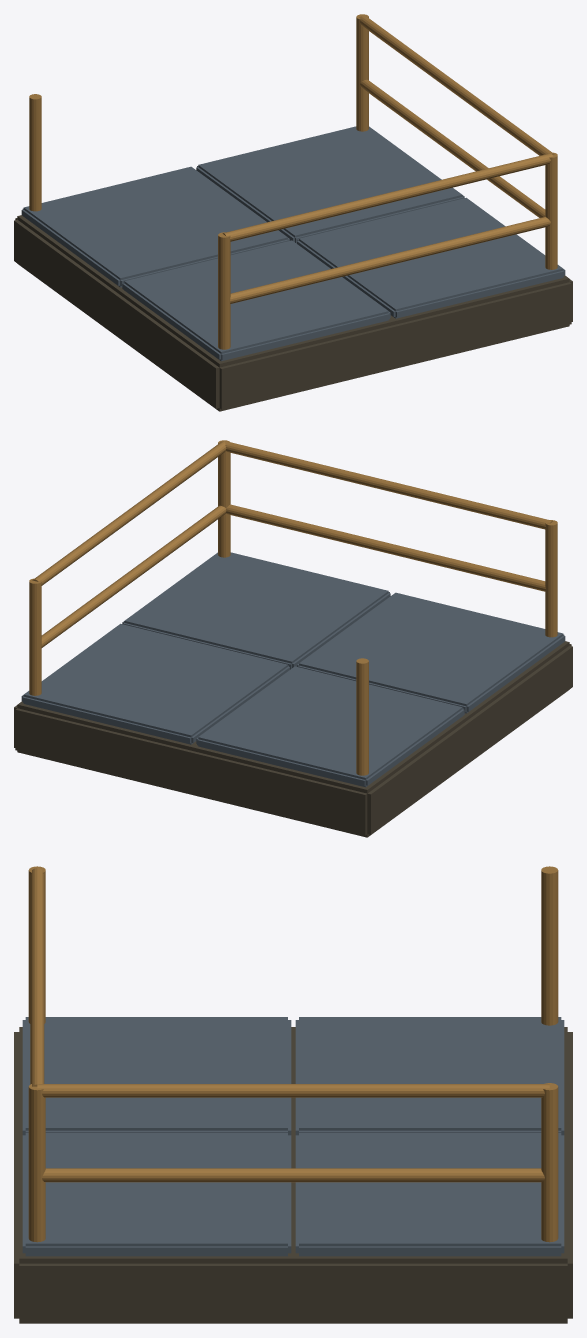
Rendered from steam-lift-v01.glb.
The picture shows the model from 3 angles, top to bottom: view 1: azimuth 30°, elevation 25°; view 2: azimuth 150°, elevation 25°; view 3: azimuth 270°, elevation 25°; orthographic projection. The views are drawn at different scales.
Visible parts, largest first — view 1: Steam Basalt • blue grey bevels, Steam Bronze • aged recess, Steam Bronze • forged warm; view 2: Steam Basalt • blue grey bevels, Steam Bronze • aged recess, Steam Bronze • forged warm; view 3: Steam Basalt • blue grey bevels, Steam Bronze • aged recess, Steam Bronze • forged warm.
Part boxes in pixels (x1,y1,x2,y2): Steam Basalt • blue grey bevels: [21, 126, 565, 361]; Steam Bronze • aged recess: [14, 215, 572, 411]; Steam Bronze • forged warm: [29, 14, 557, 349]; Steam Basalt • blue grey bevels: [21, 552, 565, 787]; Steam Bronze • aged recess: [14, 641, 572, 837]; Steam Bronze • forged warm: [29, 440, 557, 775]; Steam Basalt • blue grey bevels: [22, 1017, 564, 1256]; Steam Bronze • aged recess: [14, 1027, 572, 1323]; Steam Bronze • forged warm: [28, 866, 558, 1242].
Size of the model in its own units: 3.6 by 1.65 by 3.6.
